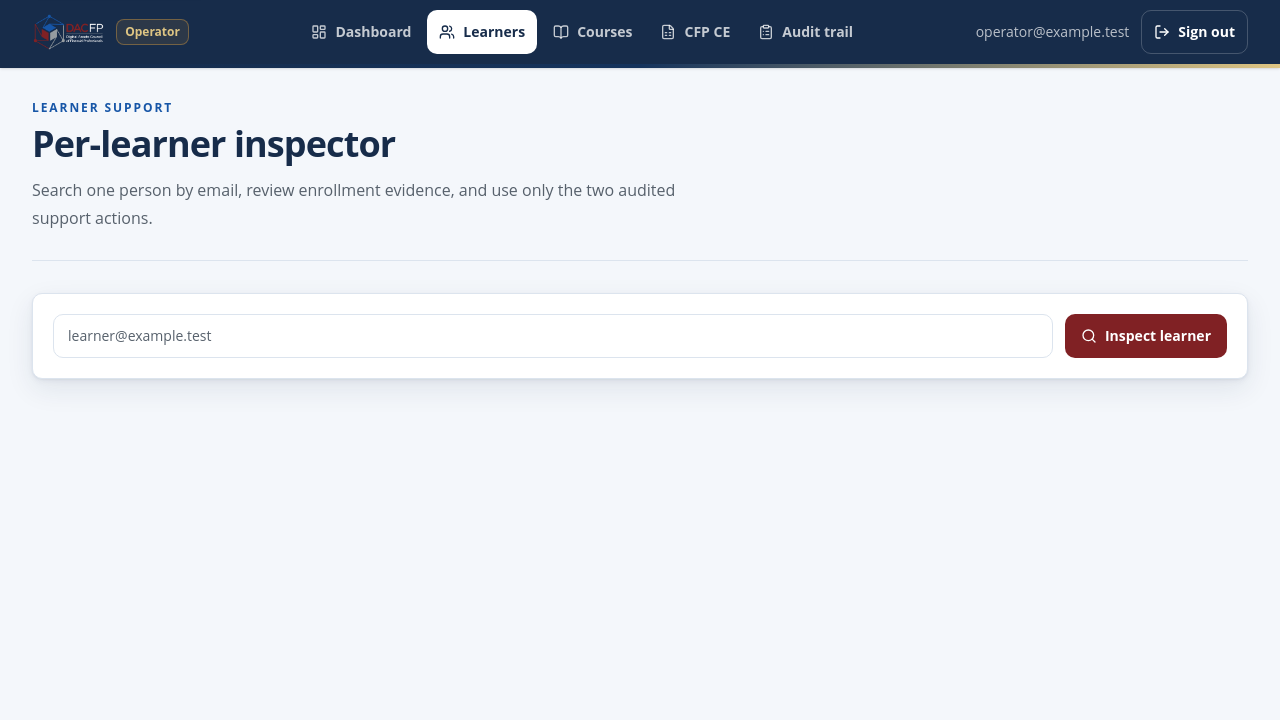
Test case: Admin inspector — brief #21 (no JSON dumps) › names manual completion for both the course and learner
The image size is (1280, 720).
Type "jordan@example.test" into the field named "Learner email" at (553, 336), box [53,314,1053,358]
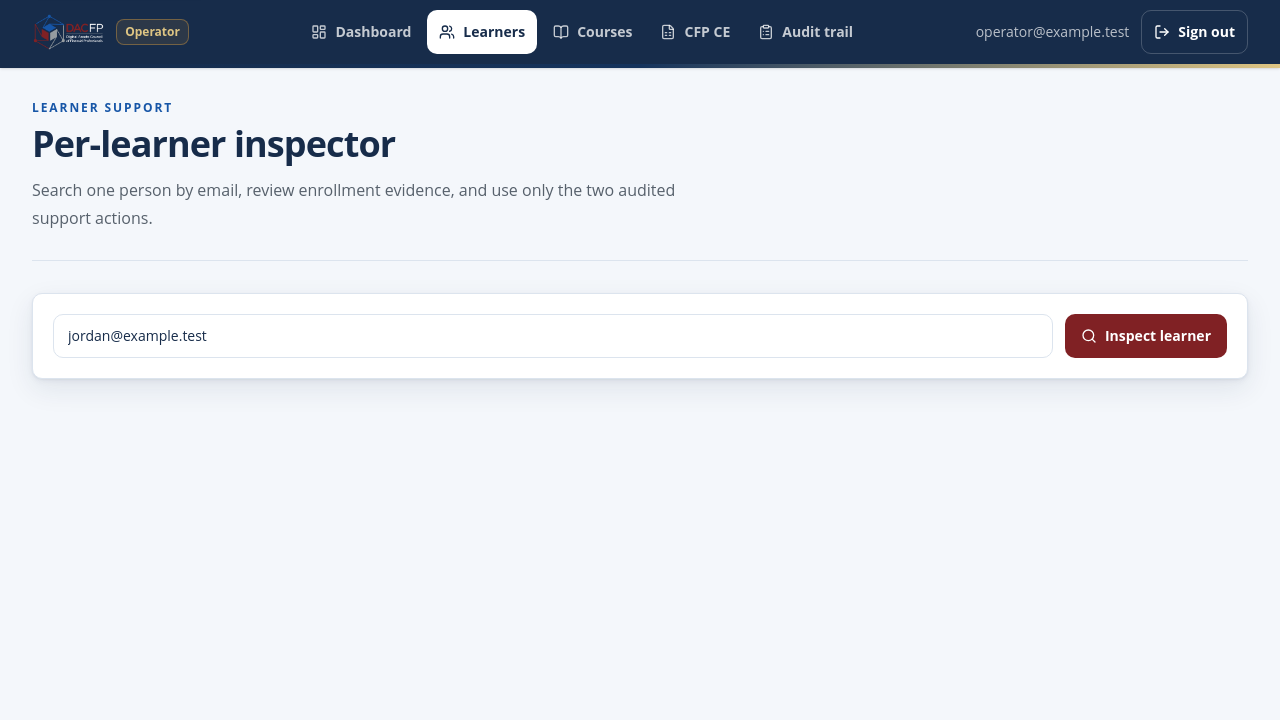
Click the button "Inspect learner" at (1146, 336), box [1065,314,1227,358]
(page scrolled)
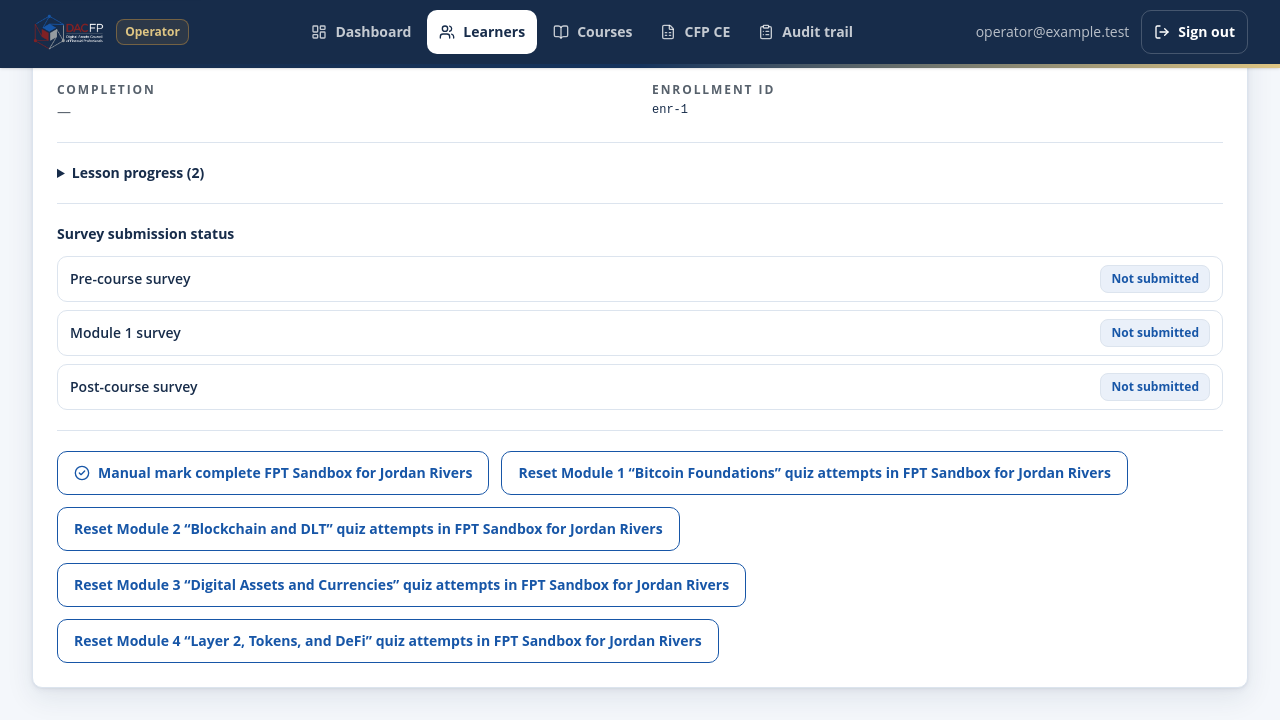
Result: the button "Manual mark complete FPT Sandbox for Jordan Rivers" is shown at [57,451,489,495]
